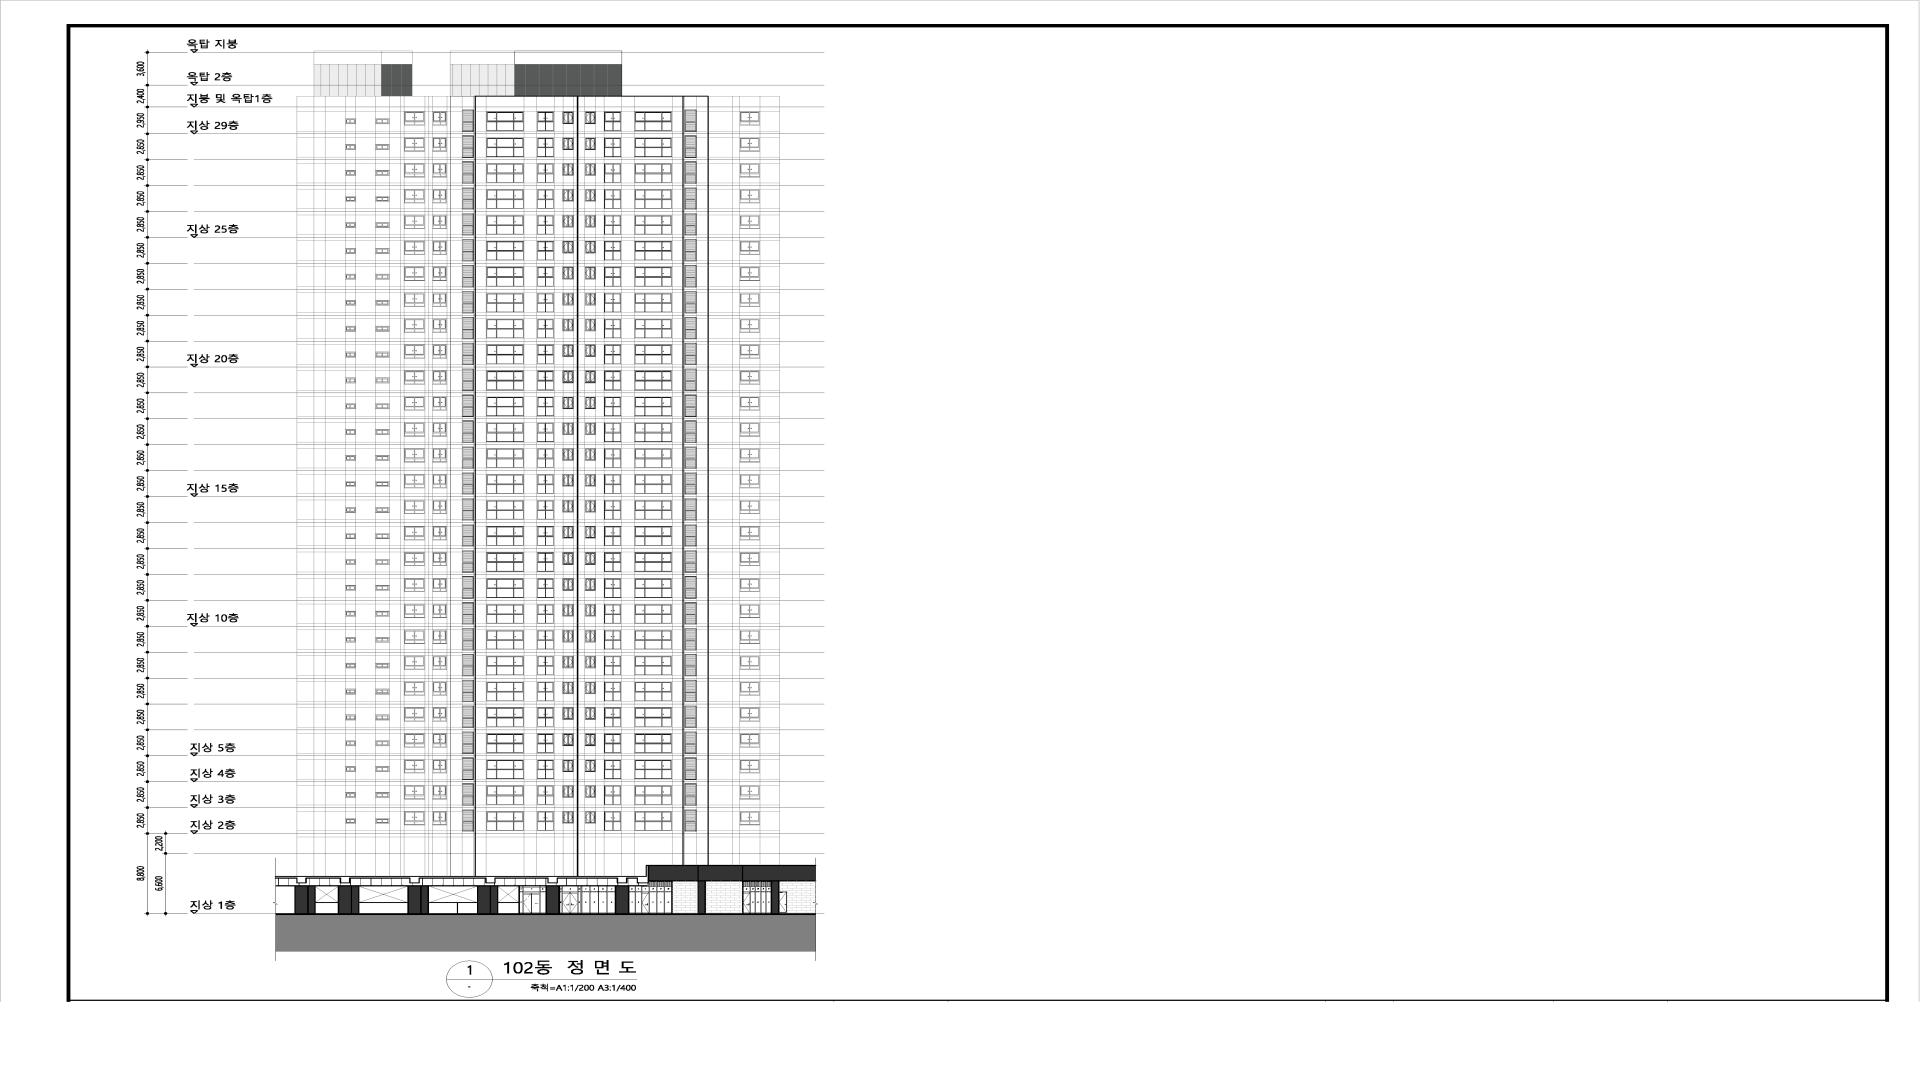door: (519, 886, 547, 914), (559, 886, 582, 914), (641, 886, 650, 914), (742, 886, 750, 914), (778, 891, 787, 913)
wall: (275, 51, 816, 915)
window: (358, 886, 409, 903), (427, 886, 478, 903), (486, 422, 524, 442), (486, 396, 524, 416), (486, 371, 524, 391), (486, 344, 524, 364), (486, 319, 524, 339), (486, 267, 524, 287), (486, 241, 524, 261), (486, 215, 524, 235), (486, 189, 524, 209), (486, 163, 524, 183), (486, 137, 524, 157), (486, 111, 524, 131), (634, 811, 672, 831), (634, 785, 672, 805), (634, 759, 672, 779), (634, 733, 672, 753), (634, 707, 672, 727), (634, 681, 672, 701), (634, 630, 672, 650), (634, 604, 672, 624), (634, 578, 672, 598), (634, 552, 672, 572), (634, 526, 672, 546), (634, 500, 672, 520), (634, 474, 672, 494), (634, 448, 672, 468), (634, 422, 672, 442), (634, 370, 672, 390), (634, 344, 672, 364), (634, 319, 672, 339), (634, 293, 672, 313), (486, 811, 524, 831), (486, 785, 524, 805), (486, 759, 524, 779), (486, 733, 524, 753), (486, 707, 524, 727), (486, 682, 524, 702), (486, 656, 524, 676), (486, 630, 524, 650), (486, 604, 524, 624), (486, 578, 524, 598), (486, 552, 524, 572), (486, 526, 524, 546), (486, 500, 524, 520), (486, 474, 524, 494), (486, 448, 524, 468), (634, 267, 672, 287), (634, 215, 672, 235), (634, 189, 672, 209), (634, 163, 672, 183), (634, 137, 672, 157), (634, 111, 672, 131), (486, 293, 524, 312), (634, 656, 672, 675), (634, 397, 672, 416), (634, 241, 672, 260), (315, 886, 339, 903), (497, 886, 519, 903), (604, 785, 622, 805), (604, 759, 622, 779), (604, 733, 622, 753), (604, 630, 622, 650), (604, 604, 622, 624), (604, 526, 622, 546), (604, 500, 622, 520), (604, 474, 622, 494), (604, 422, 622, 442), (604, 396, 622, 416), (604, 344, 622, 364), (604, 293, 622, 313), (604, 215, 622, 235), (604, 137, 622, 157), (604, 111, 622, 131), (536, 344, 554, 364), (604, 656, 622, 675), (537, 111, 554, 131), (604, 811, 621, 831), (604, 707, 621, 727), (604, 578, 621, 598), (604, 552, 621, 572), (604, 448, 621, 468), (604, 371, 621, 391), (604, 319, 621, 339), (604, 267, 621, 287), (604, 241, 621, 261), (604, 189, 621, 209), (604, 163, 621, 183), (537, 811, 554, 831), (537, 785, 554, 805), (537, 759, 554, 779), (537, 733, 554, 753), (537, 707, 554, 727), (537, 681, 554, 701), (537, 630, 554, 650), (537, 604, 554, 624), (537, 578, 554, 598), (537, 552, 554, 572), (537, 526, 554, 546), (537, 500, 554, 520), (537, 474, 554, 494), (537, 448, 554, 468), (537, 422, 554, 442), (537, 396, 554, 416), (537, 370, 554, 390), (537, 319, 554, 339), (537, 293, 554, 313), (537, 267, 554, 287), (537, 215, 554, 235), (537, 189, 554, 209), (537, 163, 554, 183), (537, 137, 554, 157), (604, 682, 621, 701), (537, 656, 554, 675), (537, 241, 554, 260), (739, 811, 761, 825), (739, 785, 761, 799), (739, 733, 760, 747), (739, 707, 760, 721), (739, 681, 760, 695), (739, 656, 760, 670), (739, 630, 760, 644), (739, 604, 760, 618), (739, 578, 760, 592), (739, 552, 760, 566), (739, 526, 760, 540), (739, 500, 760, 514), (739, 474, 760, 488), (739, 448, 760, 462), (739, 422, 760, 436), (739, 396, 760, 410), (739, 371, 760, 385), (739, 345, 760, 359), (739, 319, 760, 333), (739, 293, 760, 307), (739, 267, 760, 281), (739, 241, 760, 255), (739, 215, 760, 229), (739, 189, 760, 203), (739, 163, 760, 177), (739, 137, 760, 151), (739, 111, 760, 125), (404, 811, 425, 825), (404, 785, 425, 799), (404, 759, 425, 773), (404, 733, 425, 747), (404, 707, 425, 721), (404, 656, 425, 670), (404, 630, 425, 644), (404, 604, 425, 618), (404, 578, 425, 592), (404, 552, 425, 566), (404, 526, 425, 540), (404, 500, 425, 514), (404, 474, 425, 488), (404, 448, 425, 462), (404, 422, 425, 436), (404, 396, 425, 410), (404, 370, 425, 384), (404, 345, 425, 359), (404, 319, 425, 333), (404, 293, 425, 307), (404, 267, 425, 281), (404, 241, 425, 255), (404, 215, 425, 229), (404, 189, 425, 203), (404, 163, 425, 177), (404, 137, 425, 151), (404, 111, 425, 125), (739, 759, 760, 773), (462, 809, 474, 832), (462, 550, 474, 573), (462, 187, 474, 210), (462, 161, 474, 184), (684, 550, 696, 573), (685, 213, 697, 236), (404, 682, 425, 695), (462, 783, 474, 805), (462, 758, 474, 780), (462, 732, 474, 754), (462, 706, 474, 728), (462, 680, 474, 702), (462, 654, 474, 676), (462, 628, 474, 650), (462, 602, 474, 624), (462, 576, 474, 598), (462, 525, 474, 547), (462, 498, 474, 520), (462, 472, 474, 494), (462, 447, 474, 469), (462, 421, 474, 443), (462, 395, 474, 417), (462, 369, 474, 391), (462, 317, 474, 339), (462, 343, 474, 365), (462, 291, 474, 313), (462, 265, 474, 287), (462, 239, 474, 261), (462, 213, 474, 235), (462, 136, 474, 158), (462, 110, 474, 132), (684, 680, 696, 702), (685, 576, 697, 598), (684, 525, 696, 547), (684, 447, 696, 469), (685, 421, 697, 443), (684, 395, 696, 417), (685, 317, 697, 339), (685, 291, 697, 313), (685, 265, 697, 287), (685, 136, 697, 158), (685, 809, 696, 832), (607, 886, 616, 914), (685, 110, 696, 132), (685, 783, 696, 805), (685, 758, 696, 780), (685, 732, 696, 754), (685, 706, 696, 728), (685, 654, 696, 676), (685, 628, 696, 650), (685, 602, 696, 624), (685, 499, 696, 521), (685, 473, 696, 495), (685, 369, 696, 391), (685, 343, 696, 365), (685, 239, 696, 261), (685, 188, 696, 210), (685, 161, 696, 183), (582, 886, 590, 914), (590, 886, 598, 914), (599, 886, 607, 914), (432, 811, 447, 825), (432, 785, 447, 799), (432, 759, 447, 773), (432, 733, 447, 747), (432, 707, 447, 721), (432, 681, 447, 695), (432, 656, 447, 670), (432, 630, 447, 644), (432, 604, 447, 618), (432, 578, 447, 592), (432, 552, 447, 566), (432, 526, 447, 540), (432, 500, 447, 514), (432, 474, 447, 488), (432, 448, 447, 462), (432, 422, 447, 436), (432, 396, 447, 410), (432, 370, 447, 384), (432, 345, 447, 359), (432, 319, 447, 333), (432, 293, 447, 307), (432, 267, 447, 281), (432, 241, 447, 255), (432, 215, 447, 229), (432, 189, 447, 203), (432, 163, 447, 177), (432, 137, 447, 151), (432, 111, 447, 125), (635, 886, 642, 914), (657, 886, 664, 914), (665, 886, 672, 914), (629, 886, 635, 914), (650, 886, 656, 914), (750, 886, 756, 914), (562, 811, 574, 824), (562, 759, 574, 772), (584, 448, 596, 461), (584, 370, 596, 383), (562, 448, 574, 461), (562, 422, 574, 435), (562, 396, 574, 409), (562, 189, 574, 202), (562, 111, 574, 124), (584, 785, 596, 798), (562, 604, 574, 616), (562, 500, 574, 512), (562, 371, 574, 383), (562, 319, 574, 331), (562, 293, 574, 305), (562, 215, 574, 227), (562, 785, 573, 798), (562, 733, 573, 746), (562, 707, 573, 720), (585, 526, 596, 539), (585, 474, 596, 487), (585, 422, 596, 435), (585, 396, 596, 409), (585, 215, 596, 228), (585, 189, 596, 202), (585, 163, 596, 176), (585, 137, 596, 150), (585, 111, 596, 124), (562, 681, 573, 694), (562, 552, 573, 565), (563, 526, 574, 539), (562, 474, 573, 487), (562, 344, 573, 357), (563, 163, 574, 176), (562, 137, 573, 150), (585, 811, 596, 824), (585, 759, 596, 772), (585, 733, 596, 746), (585, 707, 596, 720), (585, 681, 596, 694), (585, 578, 596, 591), (585, 552, 596, 565), (756, 886, 761, 914), (761, 886, 766, 914), (766, 886, 771, 914), (585, 500, 596, 512), (585, 345, 596, 357), (585, 319, 596, 331), (585, 293, 596, 305), (585, 267, 596, 279), (585, 241, 596, 253), (563, 656, 574, 668), (562, 630, 573, 642), (562, 578, 573, 590), (562, 267, 573, 279), (563, 241, 574, 253), (585, 656, 596, 668), (585, 630, 596, 642), (585, 604, 596, 616), (375, 818, 390, 824), (375, 792, 390, 798), (375, 766, 390, 772), (375, 611, 390, 617), (375, 559, 390, 565), (375, 455, 390, 461), (375, 429, 390, 435), (375, 222, 390, 228), (375, 196, 390, 202), (375, 170, 390, 176), (375, 144, 390, 150), (375, 533, 389, 539), (375, 481, 389, 487), (375, 741, 390, 746), (375, 715, 390, 720), (375, 689, 390, 694), (375, 663, 390, 668), (375, 637, 390, 642), (375, 585, 390, 590), (375, 507, 390, 512), (375, 378, 390, 383), (375, 352, 390, 357), (375, 326, 390, 331), (375, 300, 390, 305), (375, 274, 390, 279), (375, 248, 390, 253), (375, 119, 390, 124), (375, 404, 389, 409), (345, 792, 356, 798), (345, 766, 356, 772), (345, 585, 356, 591), (345, 559, 356, 565), (345, 533, 356, 539), (345, 507, 356, 513), (345, 481, 356, 487), (345, 455, 356, 461), (345, 429, 356, 435), (345, 300, 356, 306), (345, 222, 356, 228), (345, 196, 356, 202), (345, 170, 356, 176), (345, 144, 356, 150), (345, 818, 356, 823), (345, 741, 356, 746), (345, 715, 356, 720), (345, 689, 356, 694), (345, 663, 356, 668), (345, 637, 356, 642), (345, 611, 356, 616), (345, 404, 356, 409), (345, 378, 356, 383), (345, 352, 356, 357), (345, 326, 356, 331), (345, 274, 356, 279), (345, 248, 356, 253), (345, 119, 356, 124)
